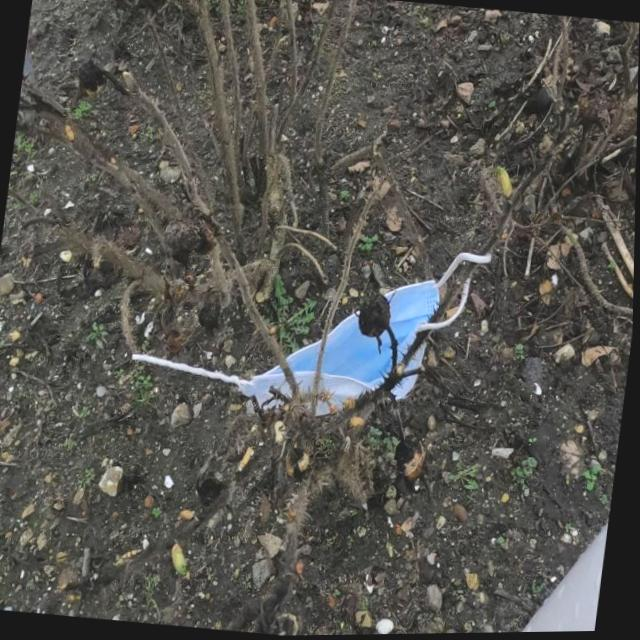Mask: (207, 252, 450, 449)
